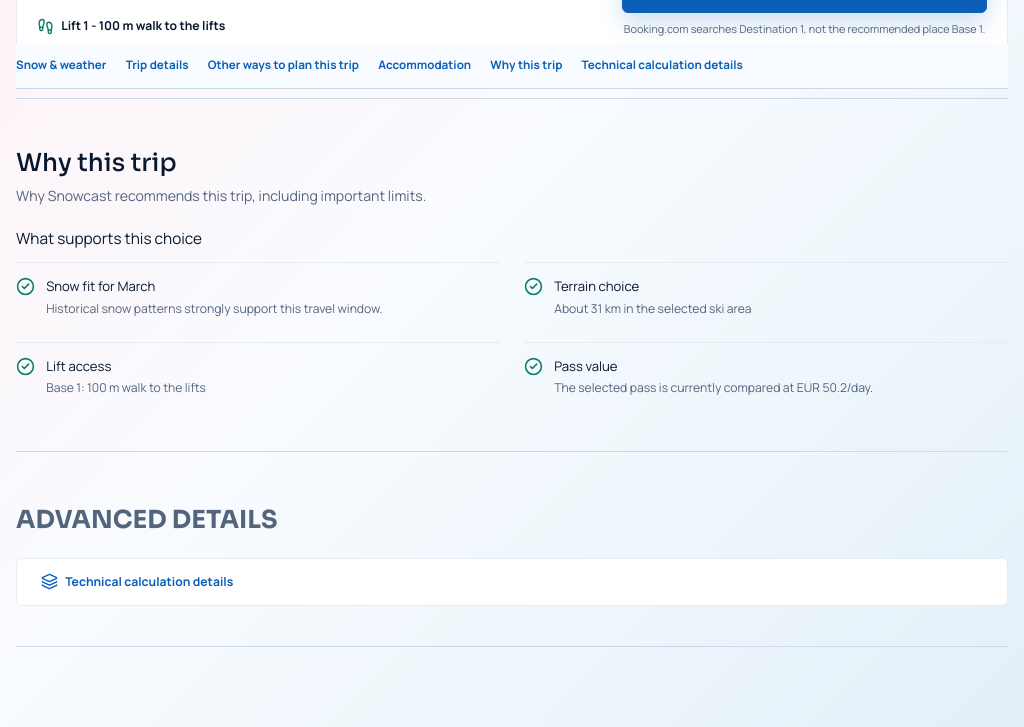
it: qualifies estimated terrain in dossier essentials, evidence, and scoring
(page scrolled)
Check: the element showing "Advanced details Technical calculation details" is shown, box [16,452,1008,647]
Click the heading "Technical calculation details" at (137, 582), box [41,573,233,590]
(page scrolled)
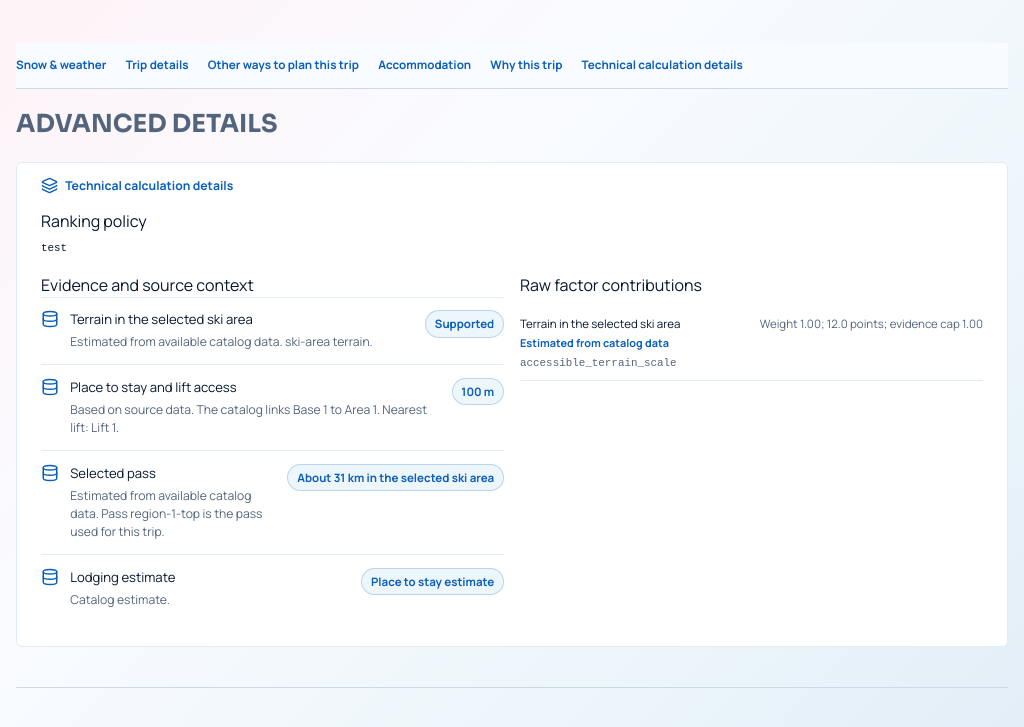
Check: the text "Estimated from catalog data" is shown, box [520,336,680,352]
